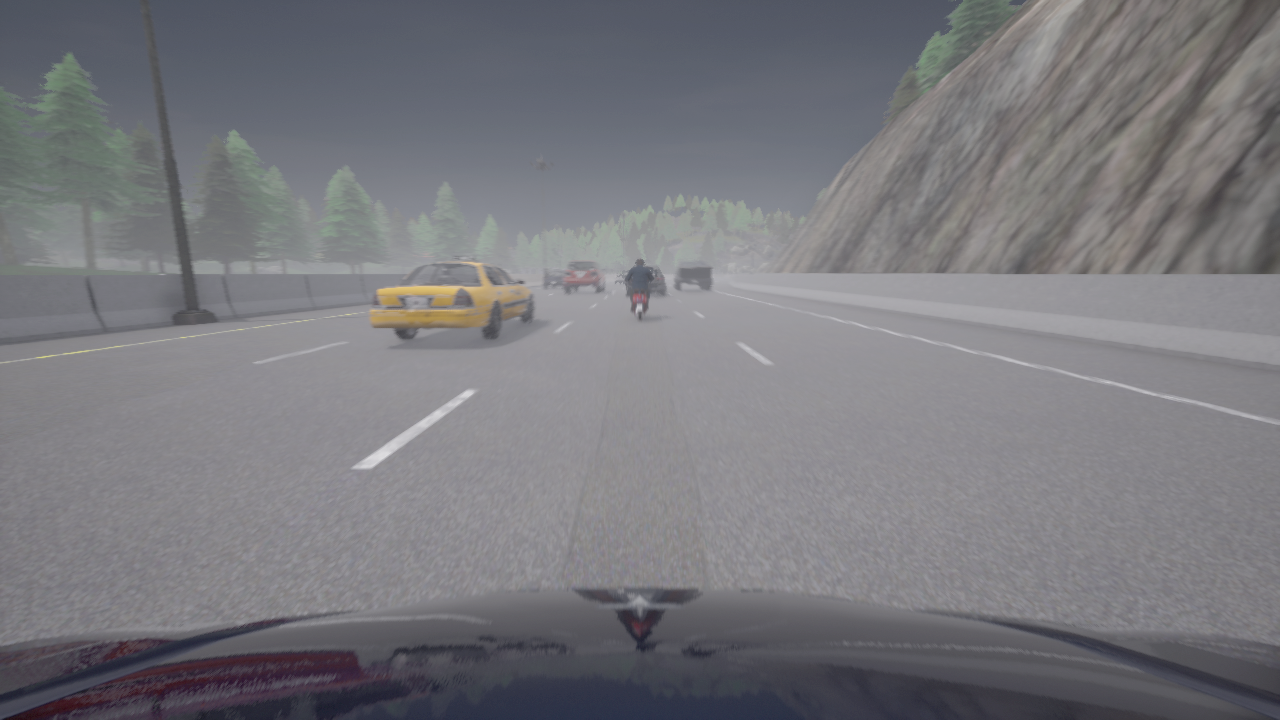cyclist: (0, 588, 1279, 719), (369, 255, 534, 339), (624, 272, 655, 320), (564, 260, 605, 293), (626, 265, 665, 295), (673, 261, 712, 291), (544, 270, 565, 288), (614, 270, 629, 284)
